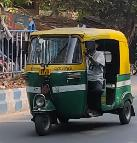Auto: (24, 26, 134, 138)
